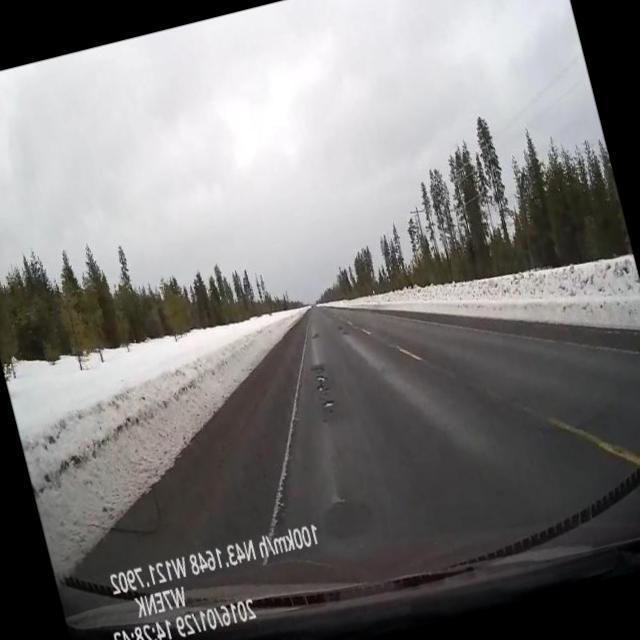Pothole: (320, 400, 333, 408), (316, 375, 326, 381), (316, 384, 323, 391)
